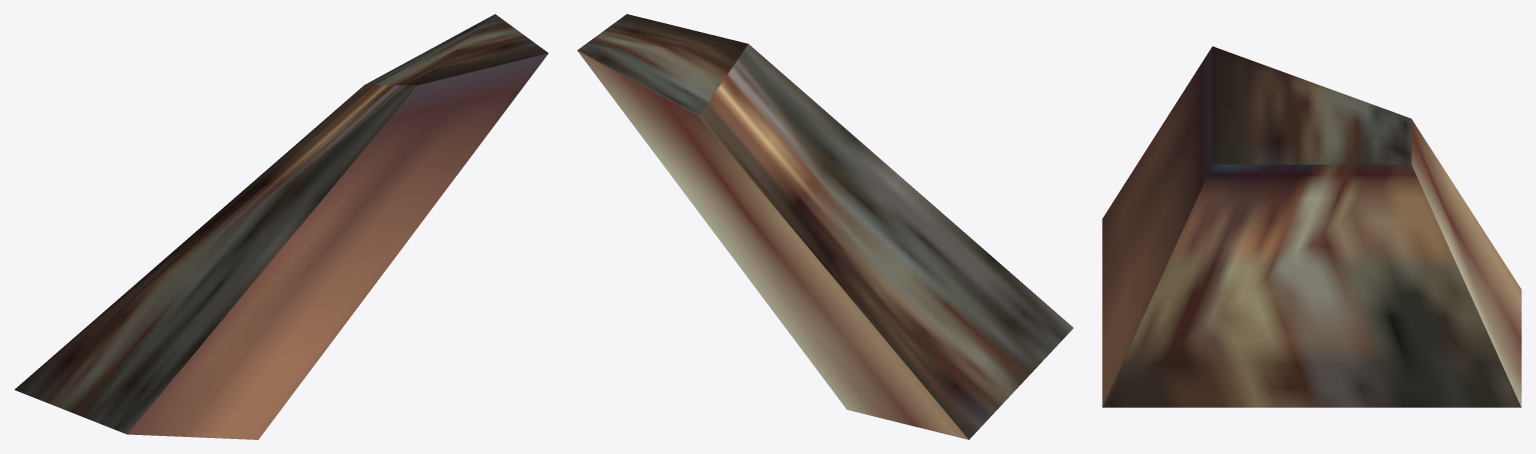
The model's file is USA - Base Infrastructure - Power Plant - Damage State 19 - ABPWRPLANT_d19.glb.
3 views of the same model, side by side, from view 1: azimuth 30°, elevation 25°; view 2: azimuth 150°, elevation 25°; view 3: azimuth 270°, elevation 25° (orthographic). The views are drawn at different scales.
Visible parts, largest first — view 1: ABPWRPLANT_D19; view 2: ABPWRPLANT_D19; view 3: ABPWRPLANT_D19.
Part boxes in pixels (left/top/right/bottom): ABPWRPLANT_D19: left=14, top=14, right=548, bottom=439; ABPWRPLANT_D19: left=577, top=14, right=1073, bottom=439; ABPWRPLANT_D19: left=1102, top=46, right=1521, bottom=407.
Size of the model in its own units: 2.6 by 1.58 by 1.13.
1 material, 1 textured.
